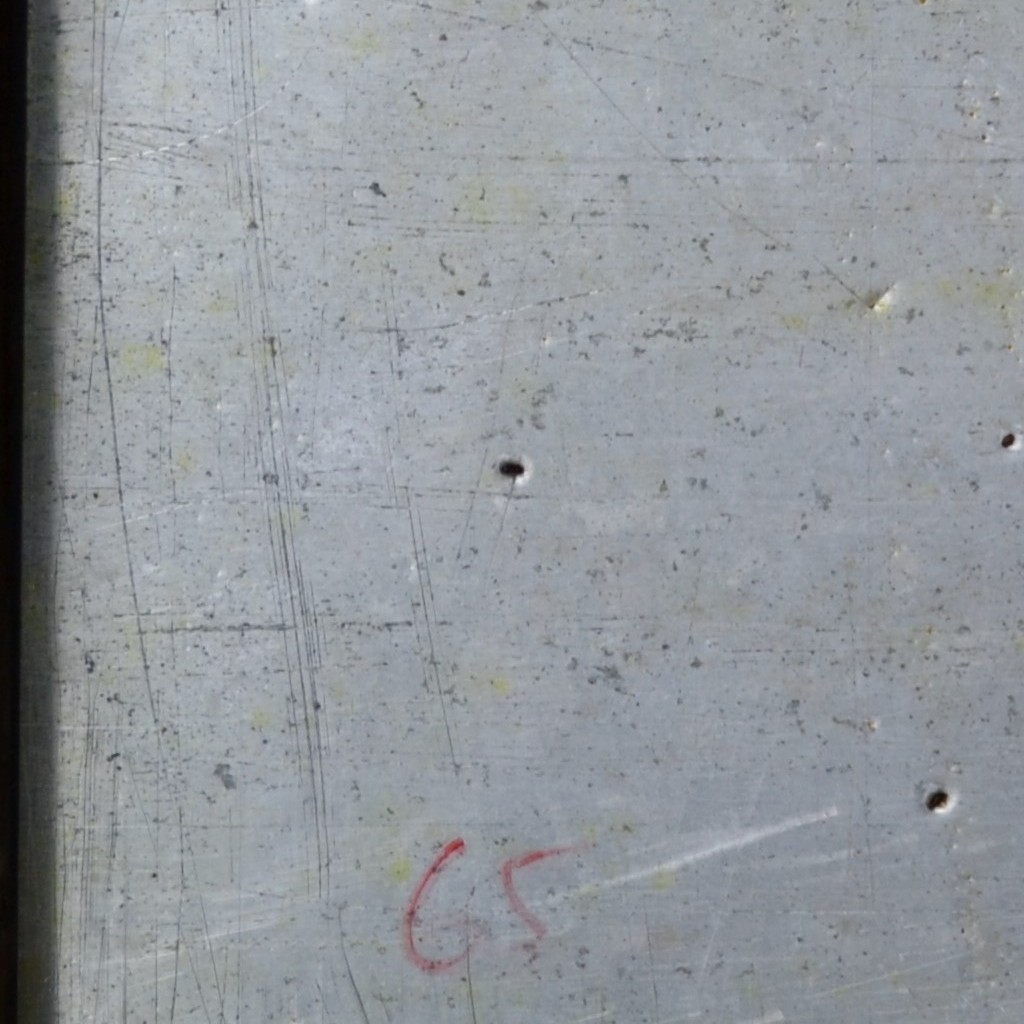varroa: (920, 786, 951, 815), (497, 456, 525, 478), (998, 428, 1017, 451)
